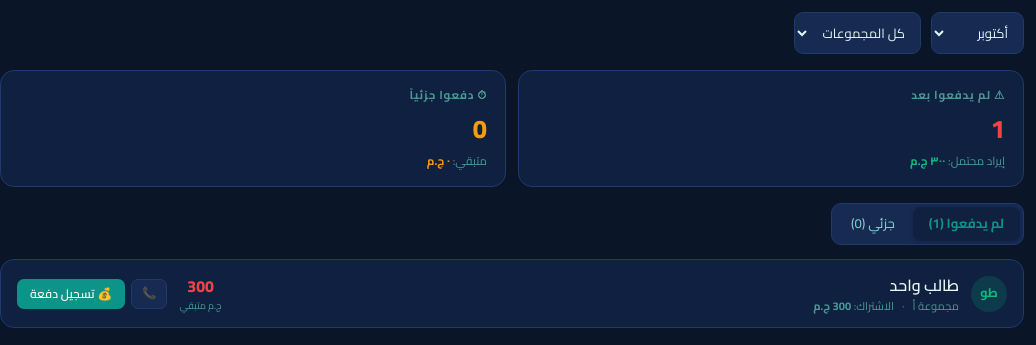
Scenario: UnpaidStudents — partial-payment remaining balance is year-aware (MEDIUM-A Finding 1) › excludes a payment from the same month number in a past year from paidSoFar/remaining
Click the button "جزئي (0)" at {"x": 873, "y": 224}, box [835,207,911,241]
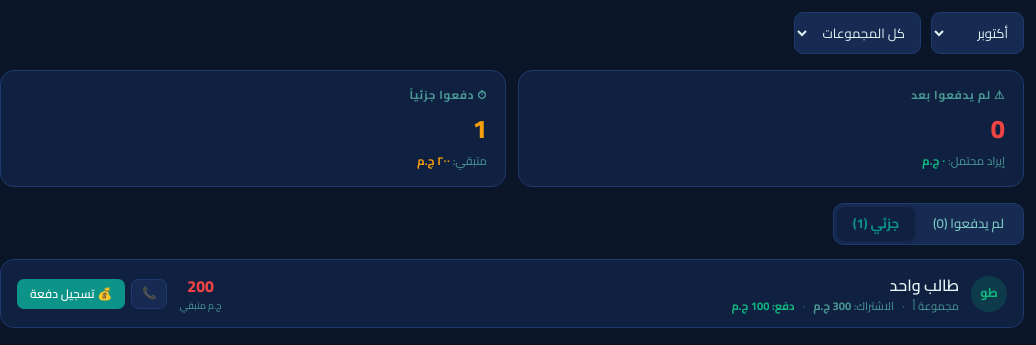
Expected: the text "دفع: 100 ج.م" is shown, [731,298,795,314]
Expected: the text "200" is shown, [187,271,214,301]
